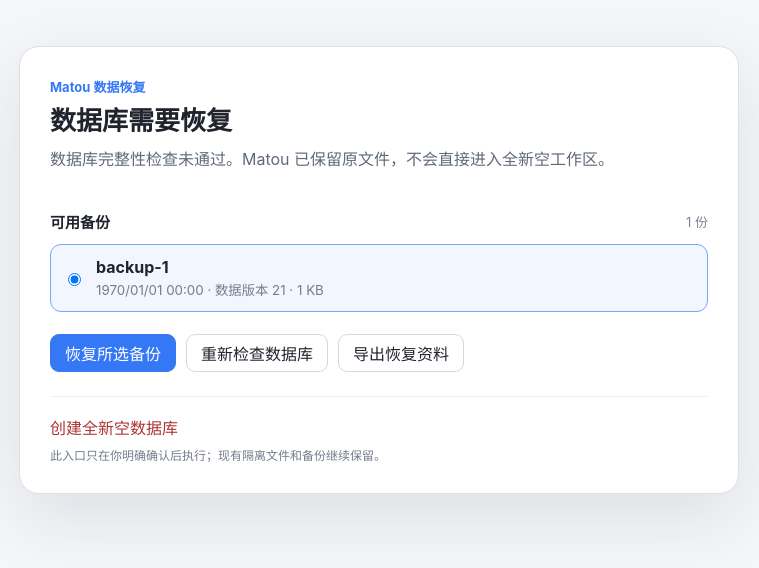
Test: database recovery page › exports evidence, retries opening, and displays the original failure on the page
Click the button "导出恢复资料" at (401, 353), box top-left (338, 334), bottom-right (464, 372)
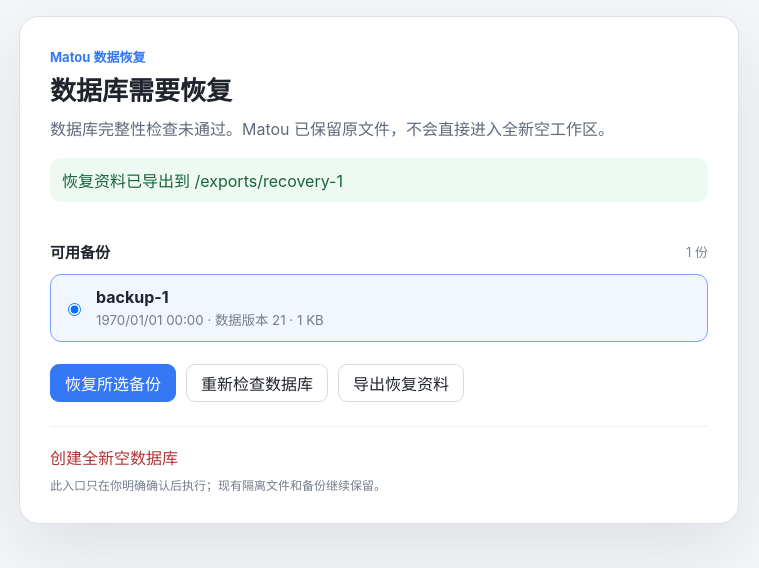
Expected: the text "恢复资料已导出到 /exports/recovery-1" is shown, top-left (50, 158), bottom-right (708, 202)
Click the button "重新检查数据库" at (257, 383), box top-left (186, 364), bottom-right (328, 402)
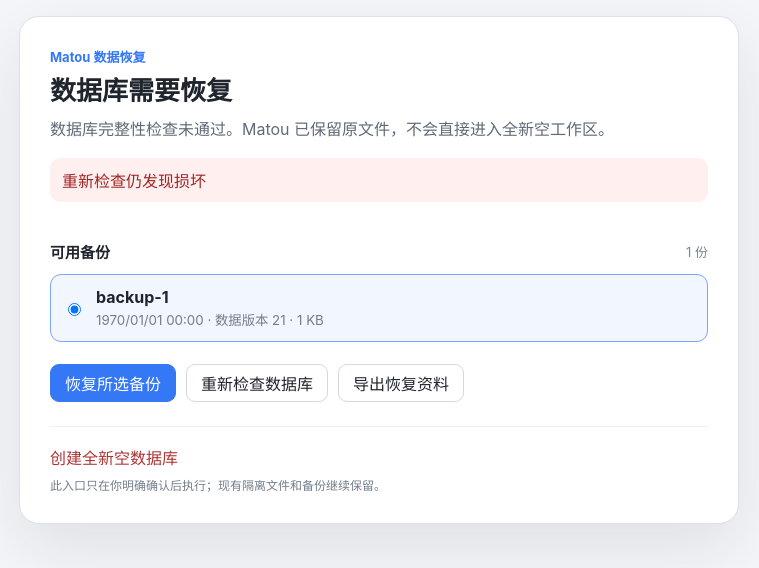
Expected: the message reads "重新检查仍发现损坏", top-left (62, 171), bottom-right (206, 191)
